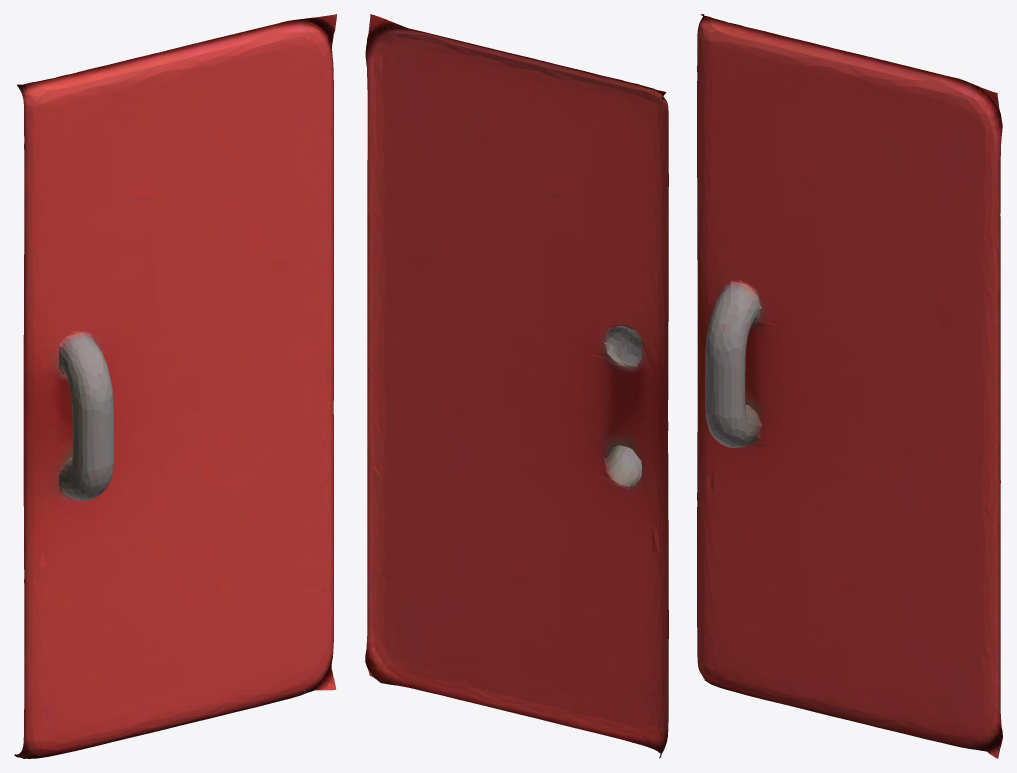
The model's file is door_right.glb.
The picture shows the model from 3 angles, left to right: view 1: azimuth 30°, elevation 25°; view 2: azimuth 150°, elevation 25°; view 3: azimuth 330°, elevation 25°; orthographic projection. The views are drawn at different scales.
Visible parts, largest first — view 1: source_surface_0; view 2: source_surface_0; view 3: source_surface_0.
Part boxes in pixels (x1,y1,x2,y2): source_surface_0: (14, 14, 336, 758); source_surface_0: (365, 14, 668, 758); source_surface_0: (697, 14, 1002, 758).
Size of the model in its own units: 0.2552 by 0.5339 by 0.0564.
Materials: 1 (1 with a texture image).
